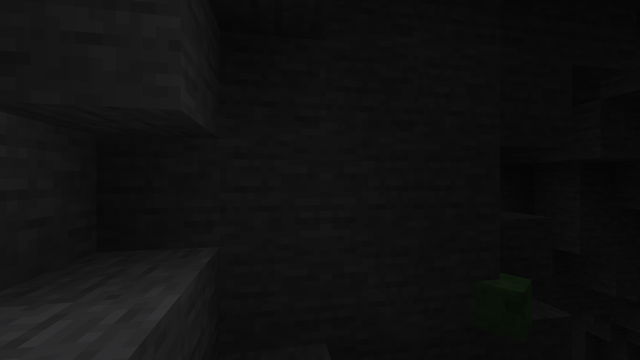slimes: (479, 268, 542, 340)
